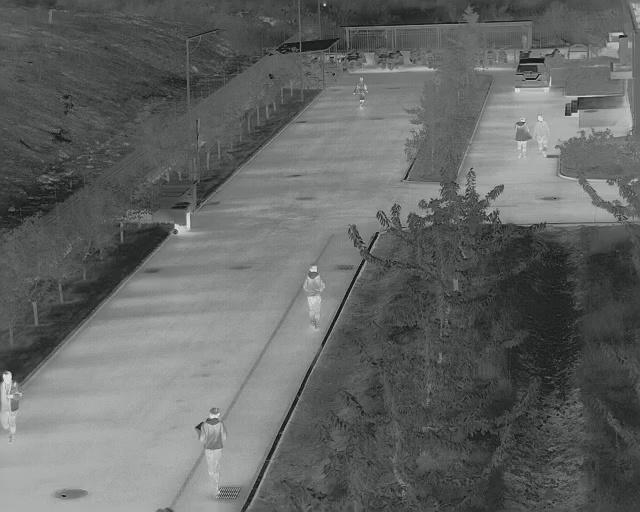person: (196, 409, 226, 493), (1, 373, 25, 442), (301, 262, 324, 330), (512, 117, 530, 158), (532, 114, 548, 159), (353, 76, 369, 110)
vehicle: (511, 58, 552, 94)
